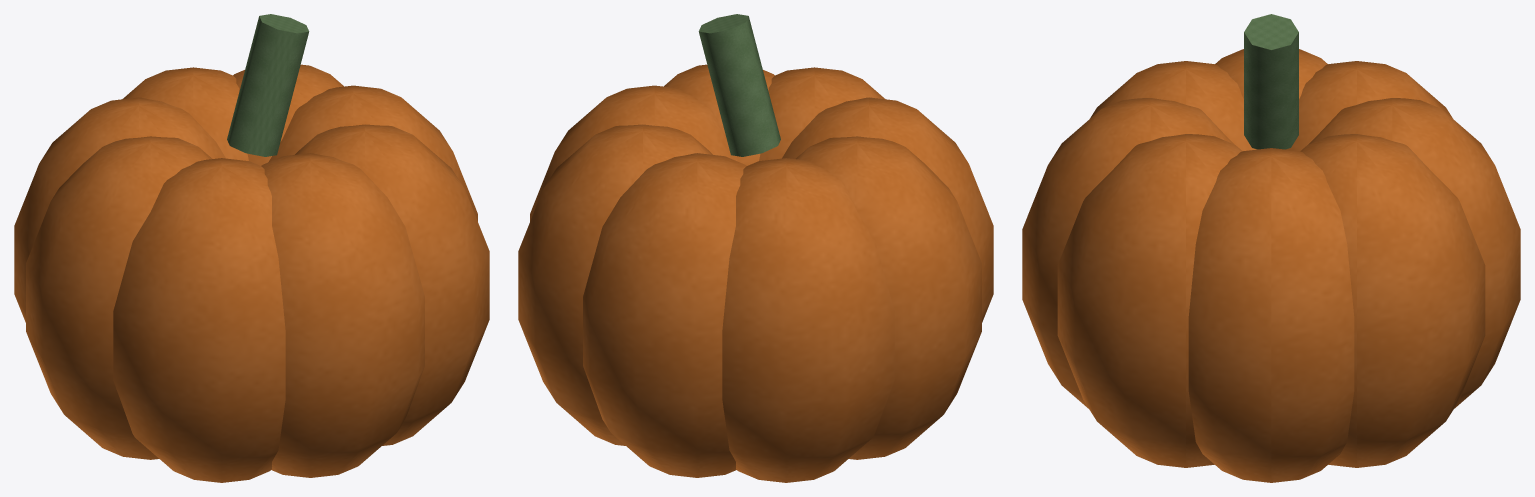
File: pumpkin.glb
The picture shows the model from 3 angles, left to right: view 1: azimuth 30°, elevation 25°; view 2: azimuth 150°, elevation 25°; view 3: azimuth 270°, elevation 25°; orthographic projection. The views are drawn at different scales.
Parts seen in each view (by area): view 1: pumpkin; view 2: pumpkin; view 3: pumpkin.
Boxes of the visible parts, x1,y1,x2,y2 form: pumpkin: (14, 14, 489, 482); pumpkin: (518, 14, 993, 482); pumpkin: (1022, 14, 1520, 482).
Size of the model in its own units: 0.908 by 0.834 by 0.908.
2 materials, 2 textured.
